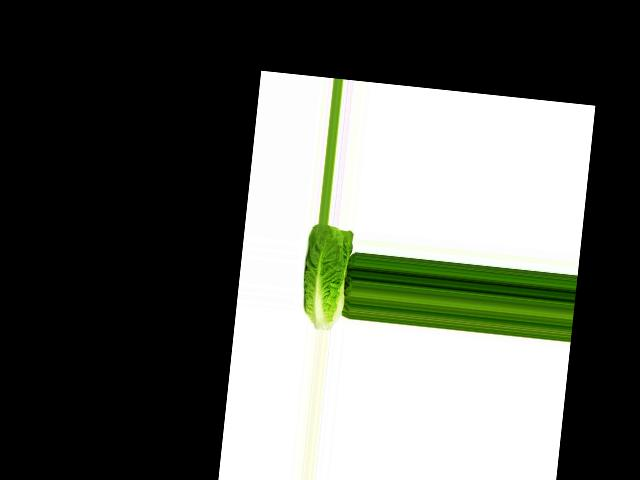lettuce: (291, 221, 352, 331)
